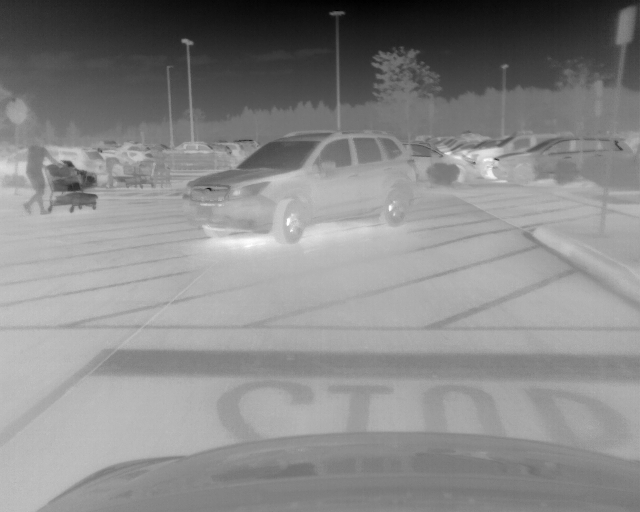car: (180, 130, 417, 245), (492, 134, 634, 184), (464, 132, 569, 182), (7, 142, 108, 188), (405, 141, 476, 186), (176, 140, 235, 163)
people: (22, 140, 67, 213), (101, 154, 124, 187)
